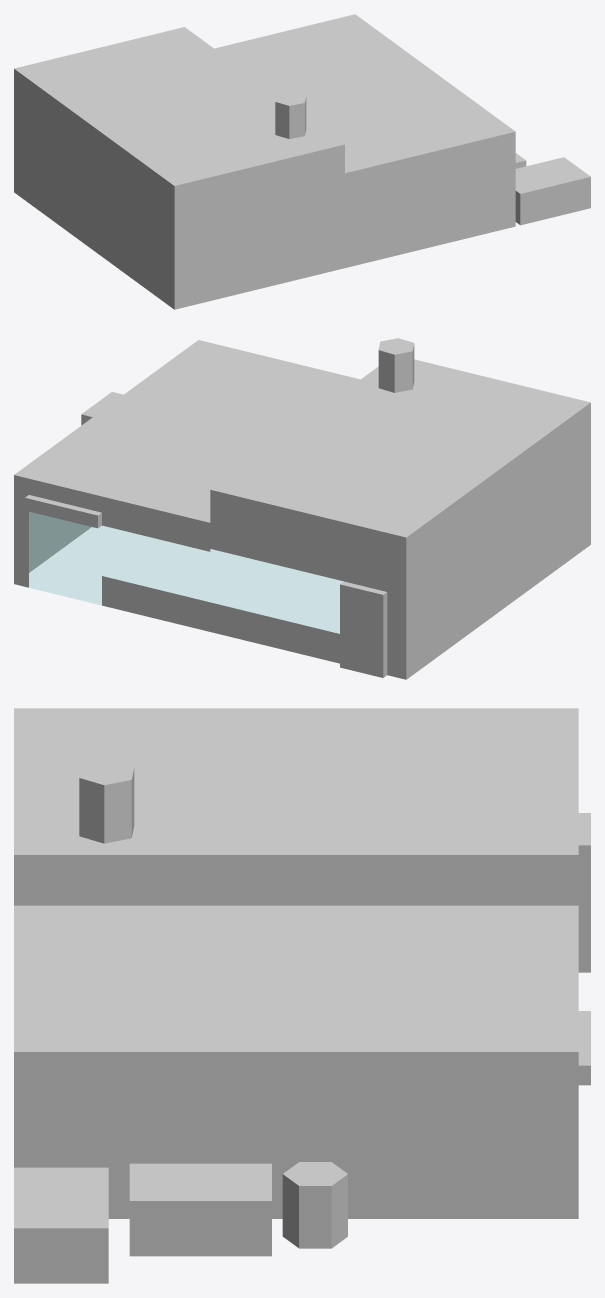
The model's file is Restaurant1.dae.
3 renders of one model, top to bottom at view 1: azimuth 30°, elevation 25°; view 2: azimuth 150°, elevation 25°; view 3: azimuth 270°, elevation 25°, orthographic. The views are drawn at different scales.
Visible parts, largest first — view 1: SketchUp (×3); view 2: SketchUp (×4); view 3: SketchUp (×4).
Boxes of the visible parts, x1,y1,x2,y2 form: SketchUp (×3): (14,14,590,309); SketchUp (×4): (14,338,590,679); SketchUp (×4): (14,708,590,1283).
Size of the model in its own units: 370930 by 252980 by 133561.
